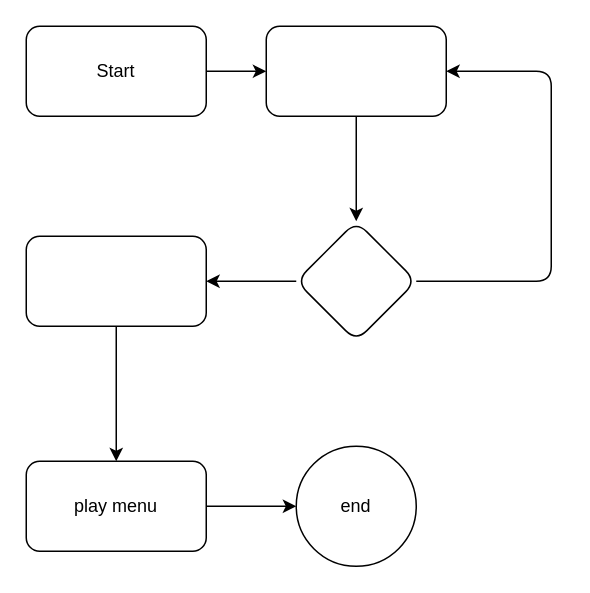
Some shapes in this 590 by 593 pixel diagram are drawn without their labels. Here are the shapes that lost their labels. From the top down, the box of each, then its label:
(265, 25, 446, 116): Login page
(25, 235, 206, 326): Game start page
